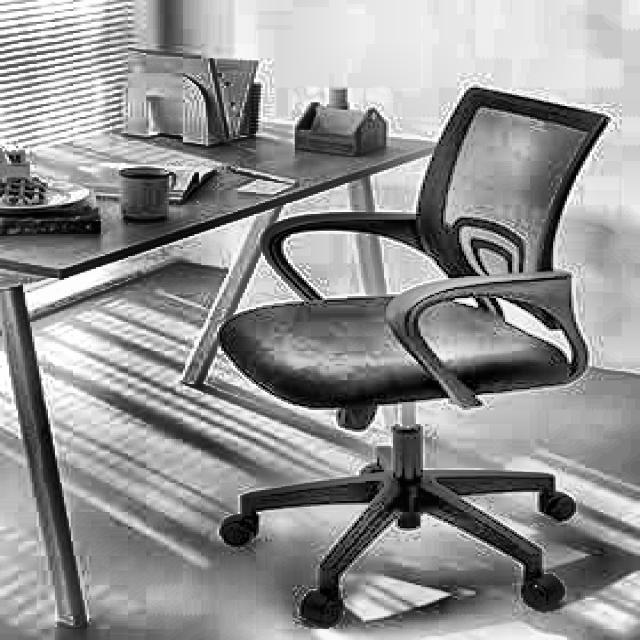cadeira: (212, 80, 614, 629)
